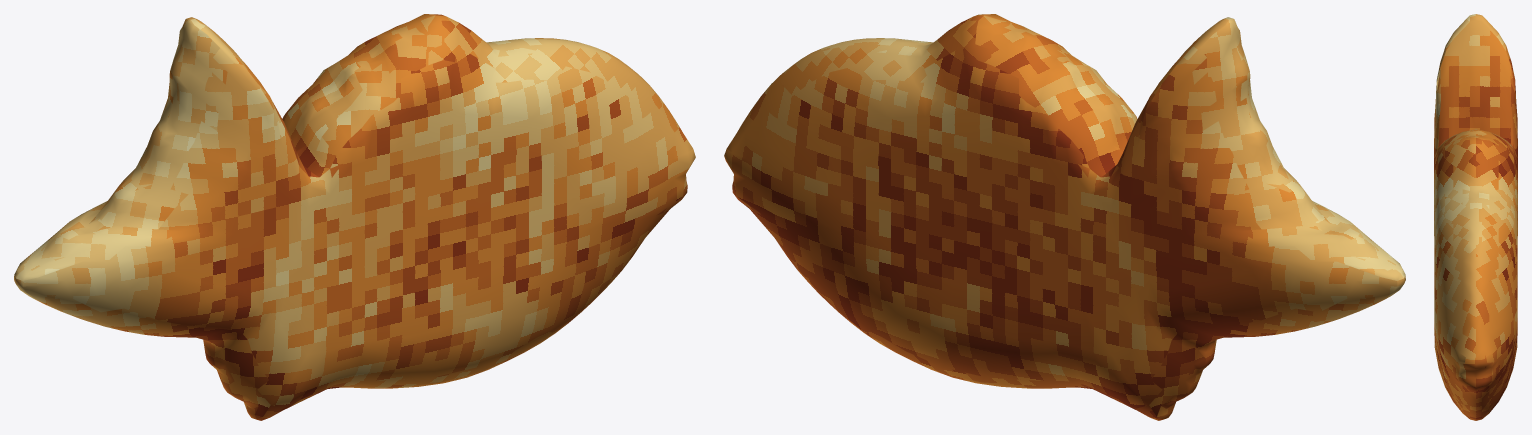
Rendered from taiyaki.glb.
3 renders of one model, left to right at view 1: azimuth 30°, elevation 25°; view 2: azimuth 150°, elevation 25°; view 3: azimuth 270°, elevation 25°, orthographic. The views are drawn at different scales.
Parts seen in each view (by area): view 1: mesh; view 2: mesh; view 3: mesh.
Part boxes in pixels (box(x1,y1,x2,y2)): mesh: box(14, 14, 695, 420); mesh: box(724, 14, 1405, 420); mesh: box(1434, 14, 1517, 420).
Bounding box in the file's own units: 0.0668 × 0.04 × 0.0102.
Materials: 1 (1 with a texture image).
